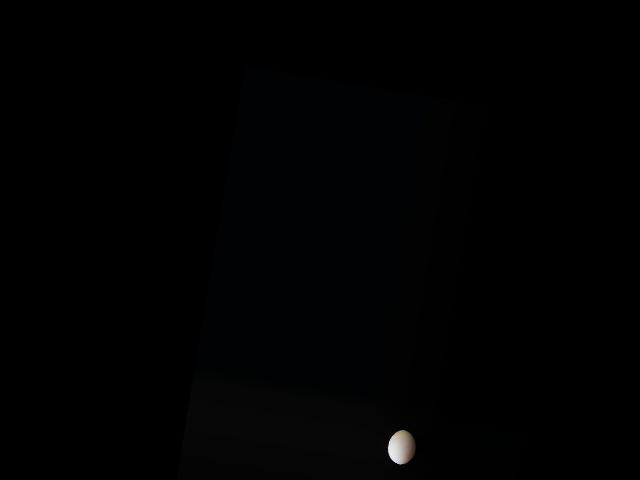egg: (385, 427, 418, 465)
